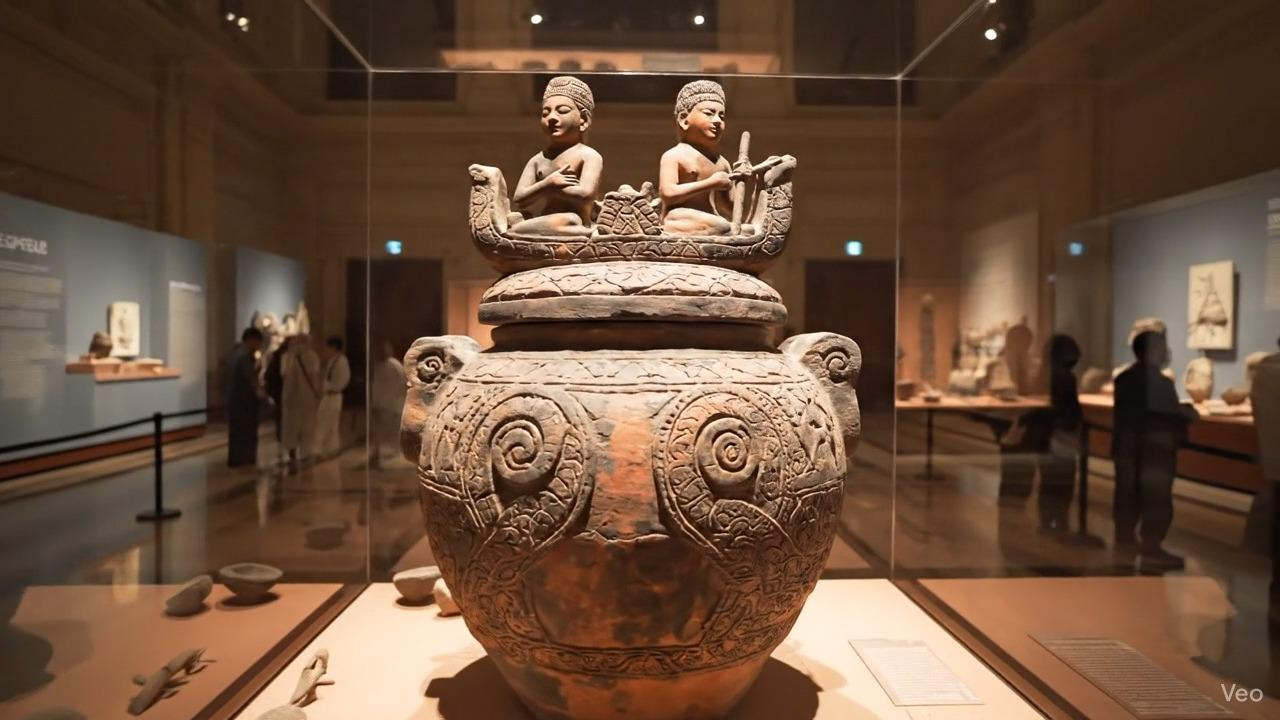manunggul_jar: (385, 55, 874, 720)
